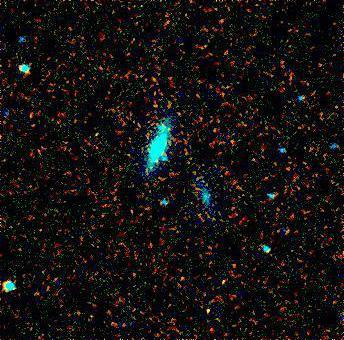star: (139, 147, 169, 177)
